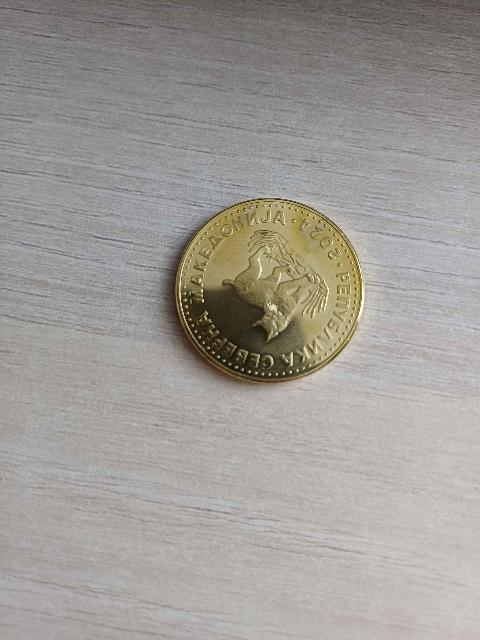5_coin: (176, 199, 363, 381)
